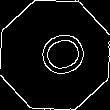O_W: (24, 26, 86, 84)
